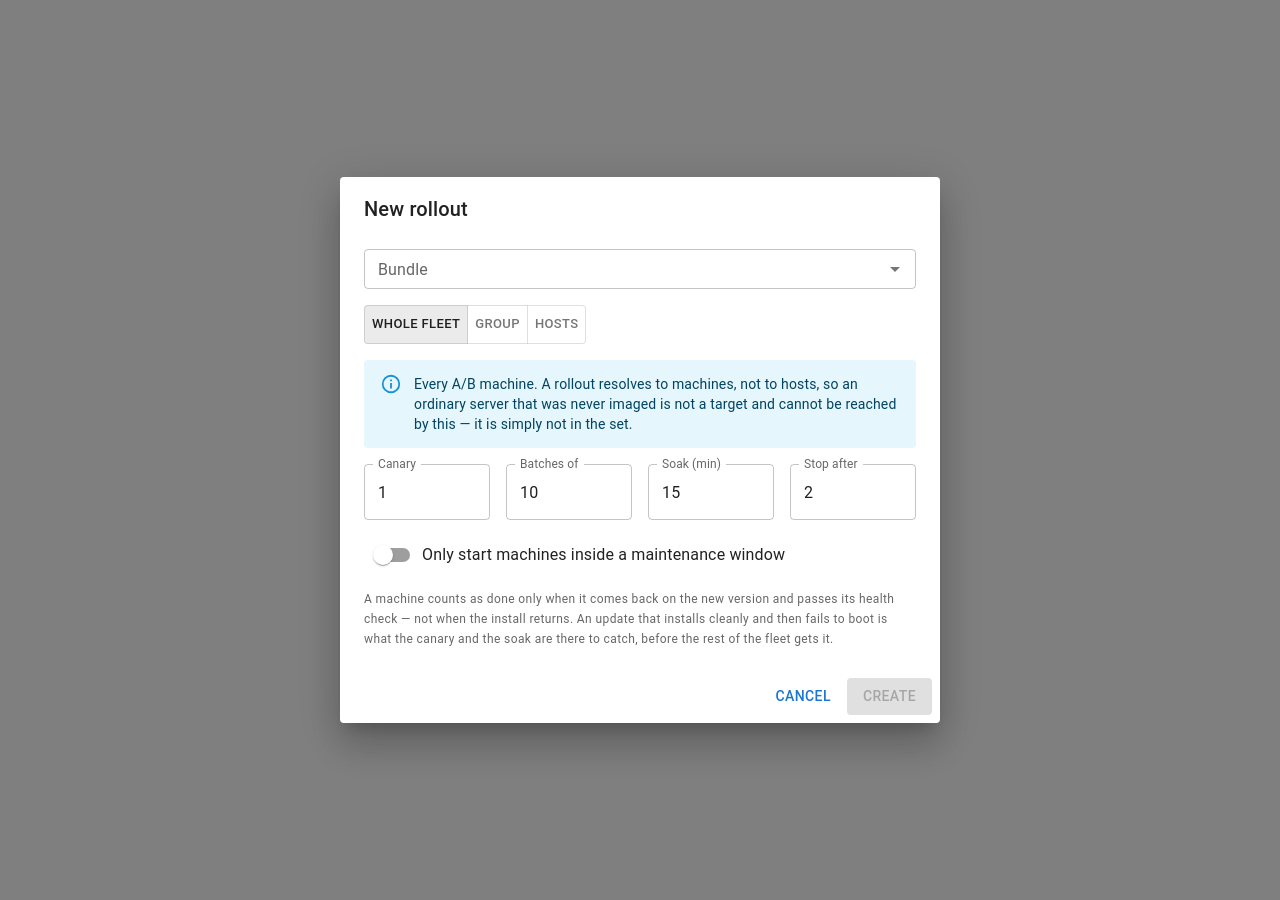
rollout targeting › lists only hosts that are paired with a machine
Click the button "Hosts". click: (557, 325)
box: [527,306,586,344]
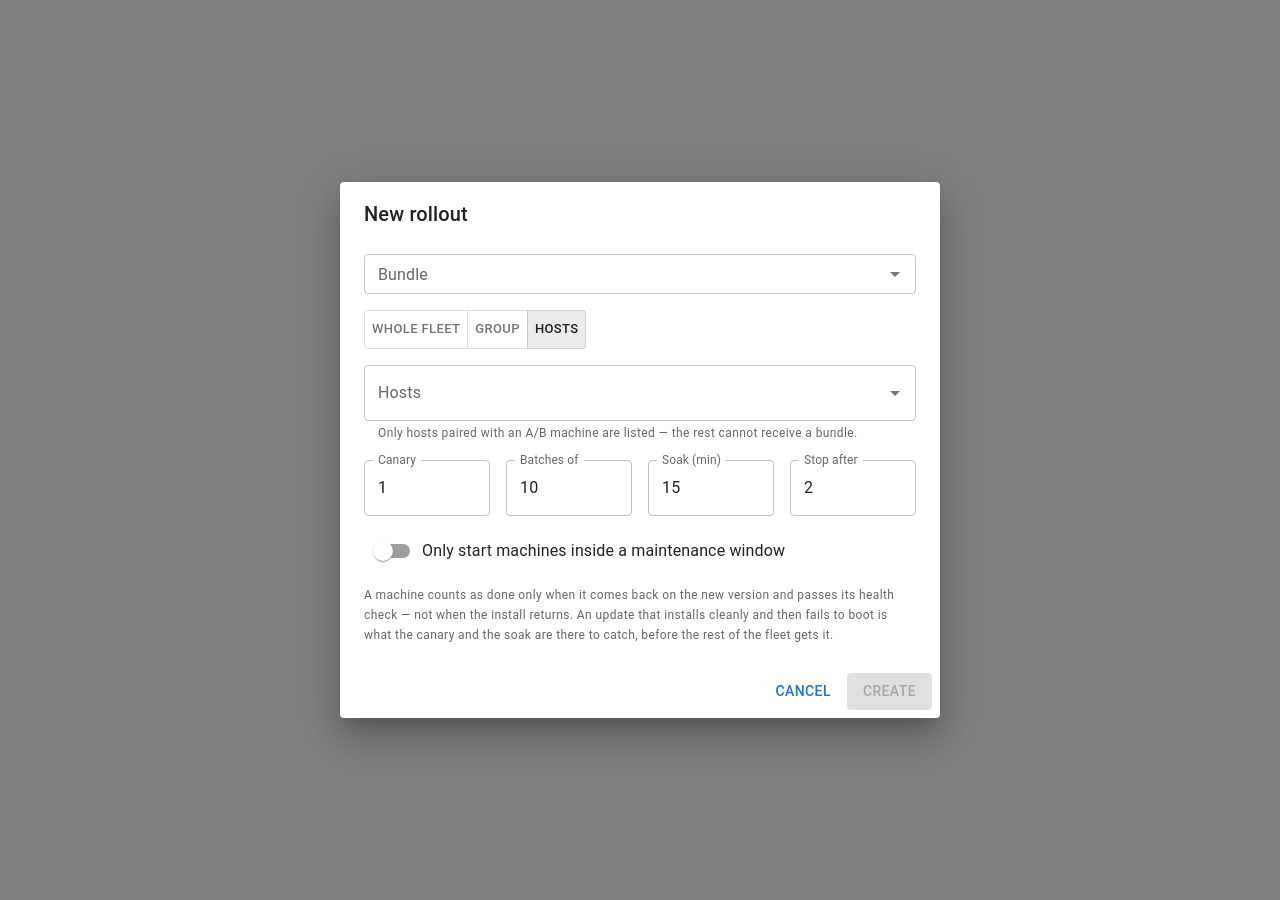
Press the mouse on the dropdown labelled "Hosts" at (625, 393), box [373,374,877,412]
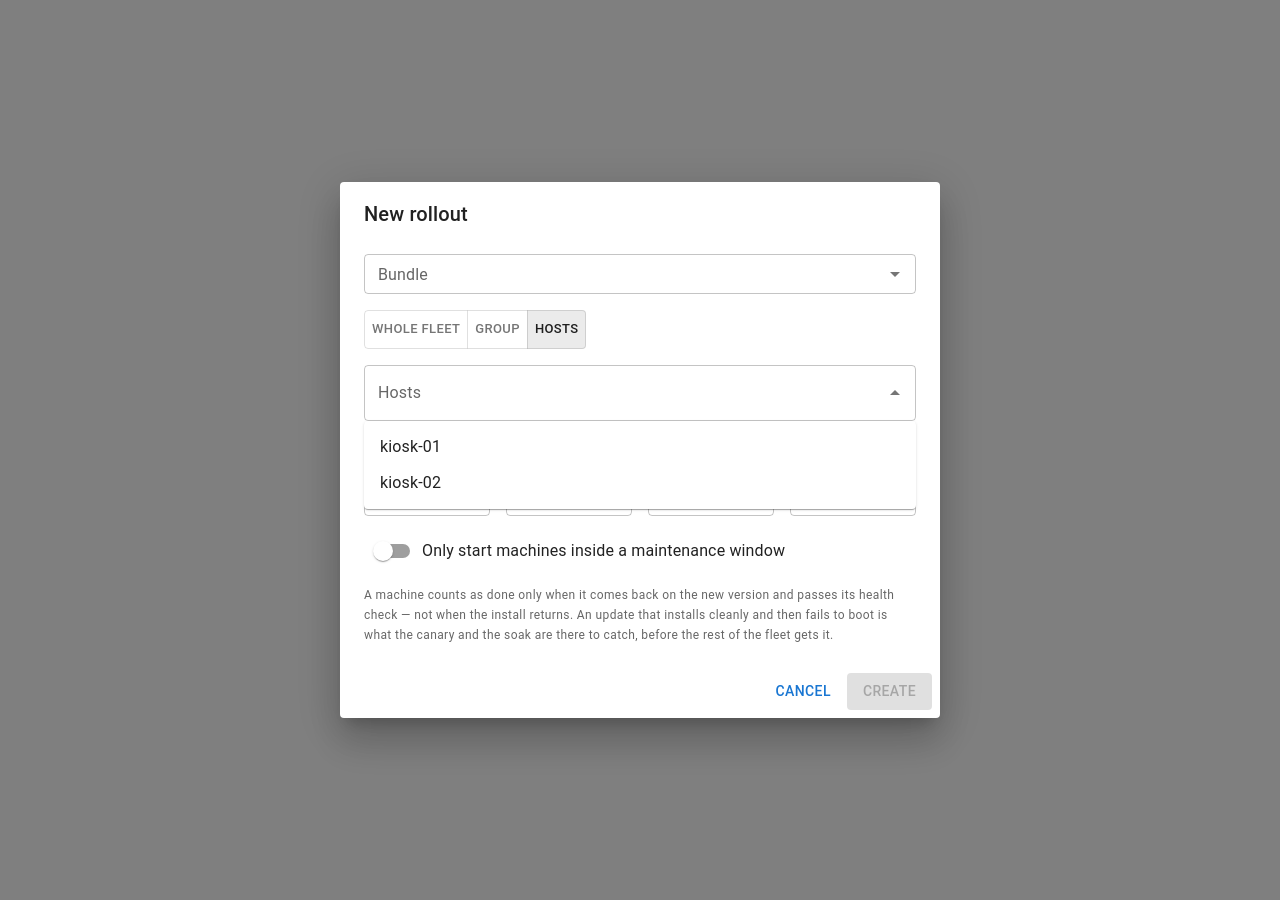
expect the option "kiosk-01" is shown: met, box [380,437,441,456]
expect the option "kiosk-02" is shown: met, box [380,473,441,492]
